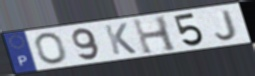5: (172, 12, 204, 48)
9: (71, 26, 101, 61)
H: (130, 14, 179, 56)
J: (214, 8, 239, 42)
K: (103, 22, 139, 56)
O: (33, 31, 69, 65)
